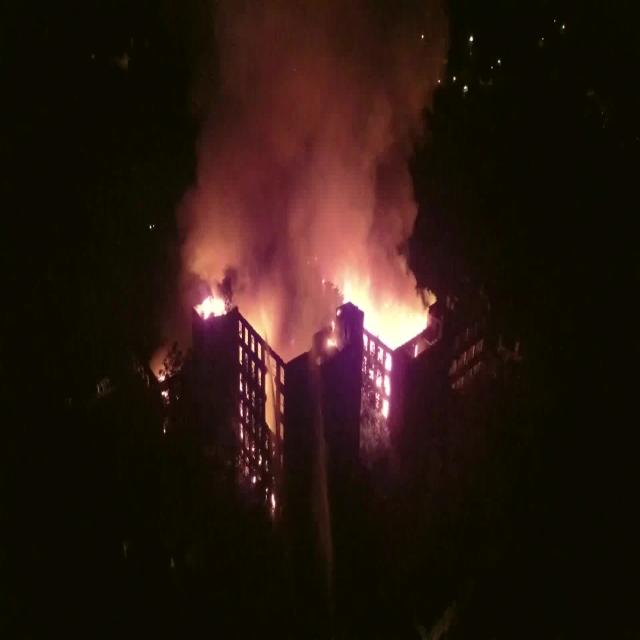Fire: (342, 279, 430, 433), (202, 296, 226, 320)
Smoke: (183, 6, 443, 356)
